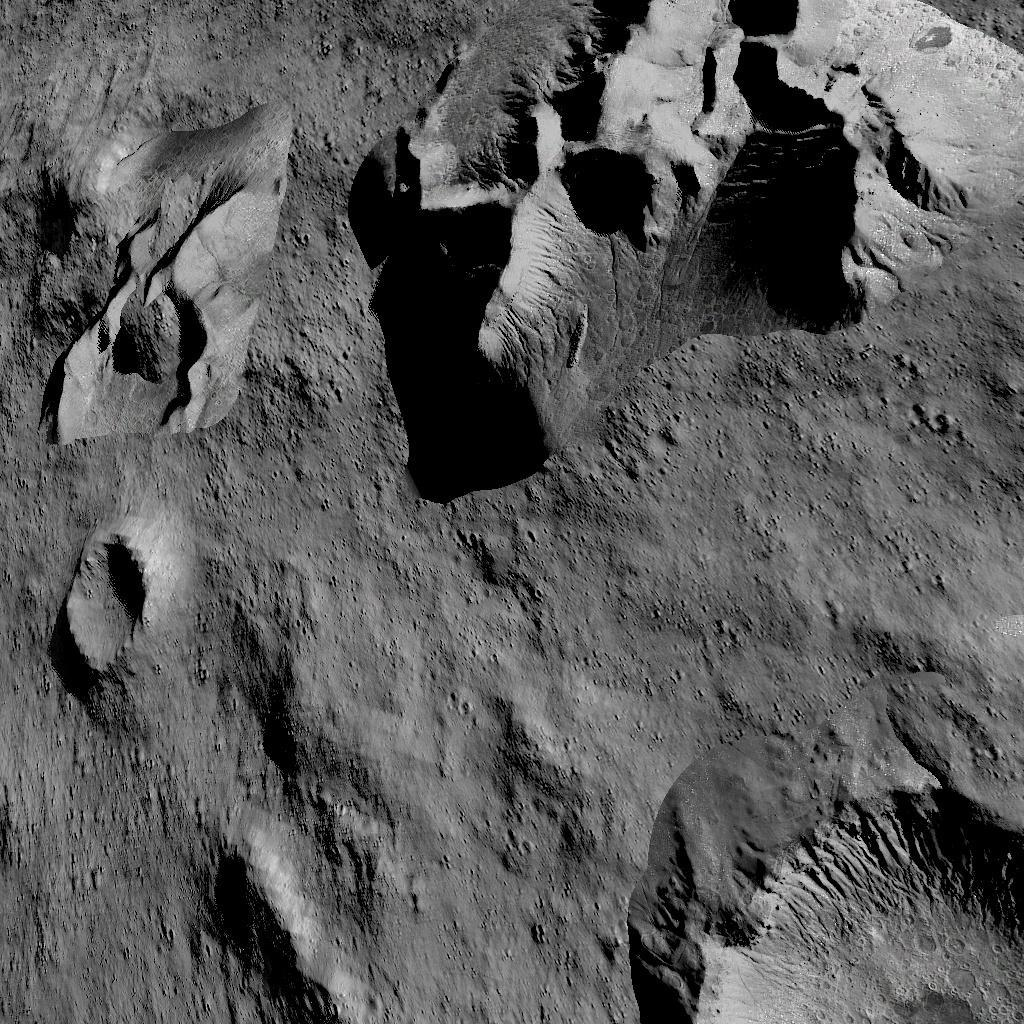Boulders: (356, 0, 1024, 503), (36, 108, 296, 448)
Crater: (659, 762, 1024, 1024), (57, 514, 167, 682)
Plan surface: (427, 516, 1024, 752), (0, 710, 272, 1024), (379, 762, 647, 1024), (0, 0, 341, 96)
